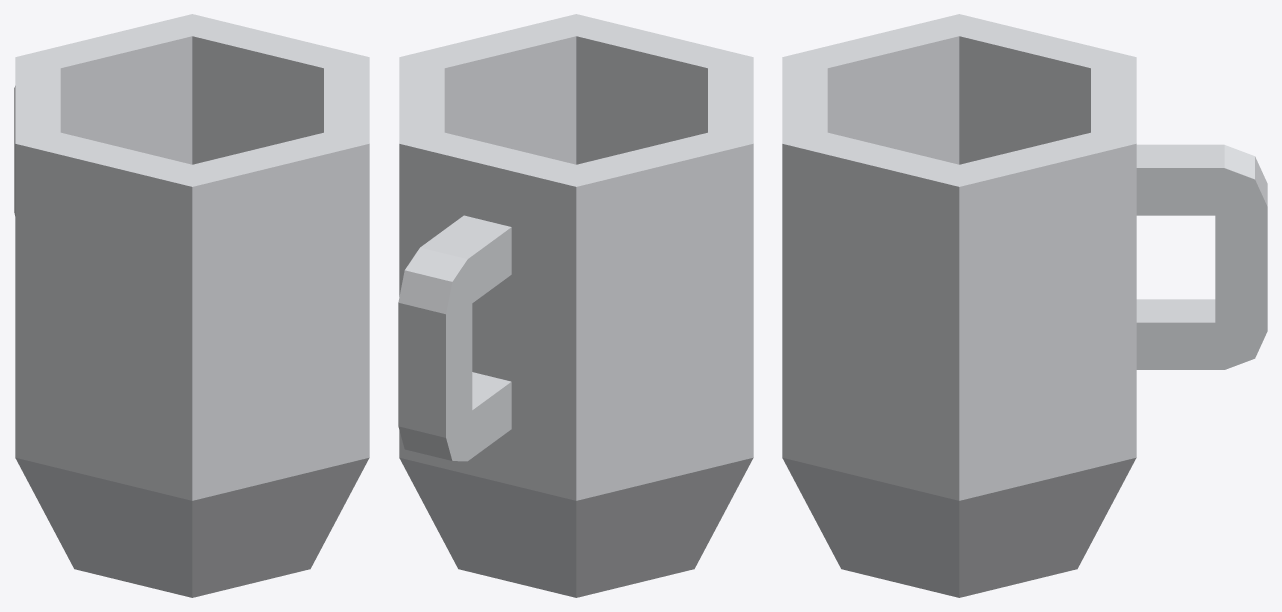
File: 5_Cup.fbx
3 views of the same model, side by side, from view 1: azimuth 30°, elevation 25°; view 2: azimuth 150°, elevation 25°; view 3: azimuth 270°, elevation 25° (orthographic).
Visible parts, largest first — view 1: Circle.014; view 2: Circle.014; view 3: Circle.014.
Boxes of the visible parts, x1=… form: Circle.014: x1=14, y1=14, x2=369, y2=597; Circle.014: x1=398, y1=14, x2=753, y2=597; Circle.014: x1=782, y1=14, x2=1267, y2=597.
Size of the model in its own units: 37.02 by 31.2 by 37.
